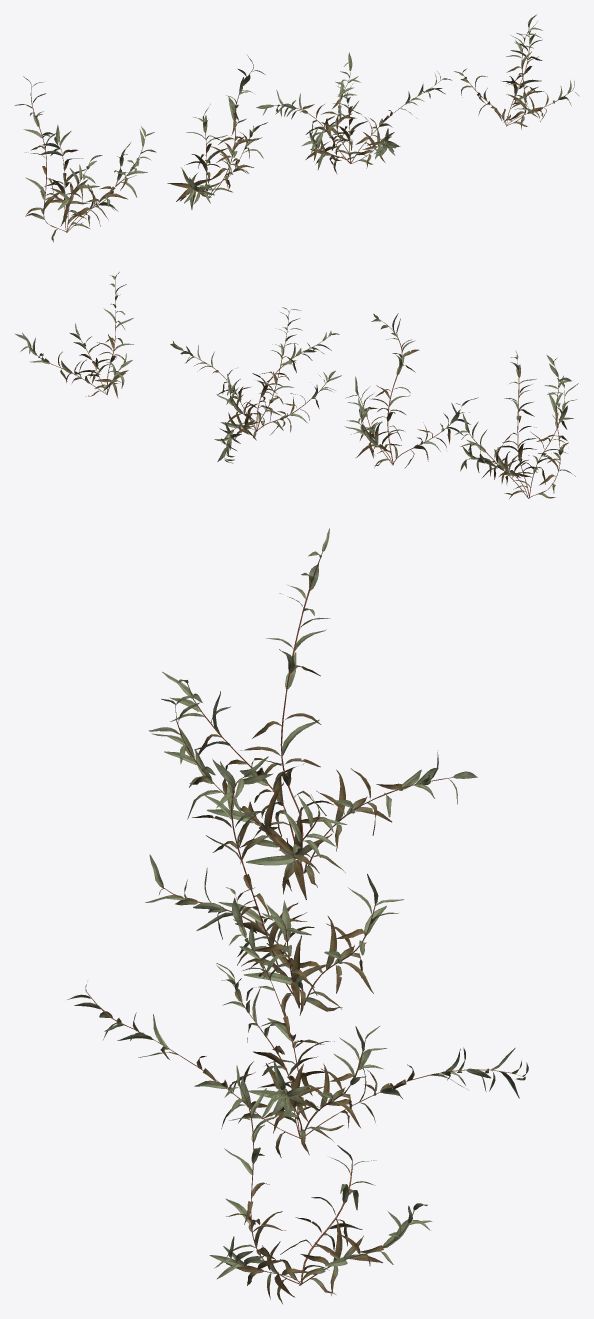
Rendered from shrub_02.glb.
3 renders of one model, top to bottom at view 1: azimuth 30°, elevation 25°; view 2: azimuth 150°, elevation 25°; view 3: azimuth 270°, elevation 25°, orthographic. The views are drawn at different scales.
Parts seen in each view (by area): view 1: shrub_02_a, shrub_02_c, shrub_02_b, shrub_02_d; view 2: shrub_02_a, shrub_02_c, shrub_02_b, shrub_02_d; view 3: shrub_02_a, shrub_02_c, shrub_02_b, shrub_02_d.
Part boxes in pixels (x1,y1,x2,y2): shrub_02_a: (14,76,156,242); shrub_02_c: (256,52,451,174); shrub_02_b: (167,55,267,209); shrub_02_d: (454,14,579,129); shrub_02_a: (455,350,578,498); shrub_02_c: (170,307,341,463); shrub_02_b: (344,313,478,468); shrub_02_d: (15,272,133,398); shrub_02_a: (148,528,477,899); shrub_02_c: (67,887,528,1157); shrub_02_b: (145,756,404,1016); shrub_02_d: (209,1065,432,1303).
Bounding box in the file's own units: 6.04 × 1.7 × 2.29.
1 material, 1 textured.
